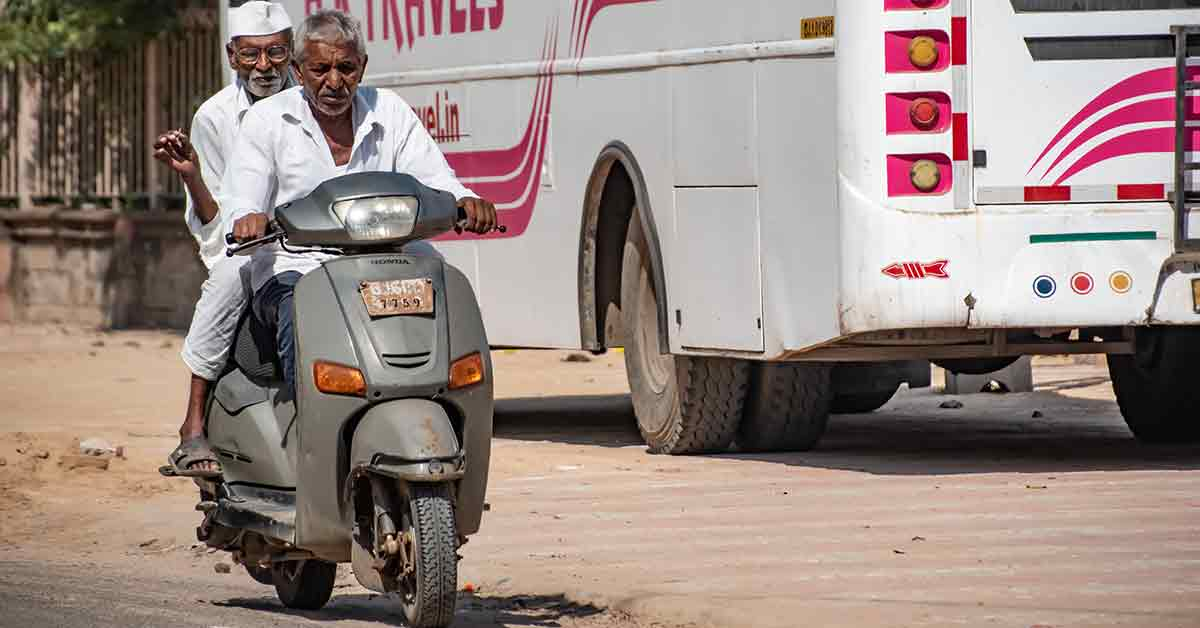h_bike: (244, 4, 500, 628)
h_nohelmet: (288, 9, 370, 122), (221, 4, 296, 104)
numplate: (352, 275, 444, 322)
